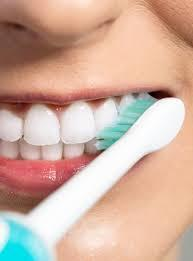normal: (19, 101, 62, 147), (59, 99, 95, 146), (0, 106, 24, 144), (12, 138, 42, 162), (95, 97, 117, 125), (60, 141, 87, 161), (37, 140, 62, 161), (0, 138, 20, 159)
